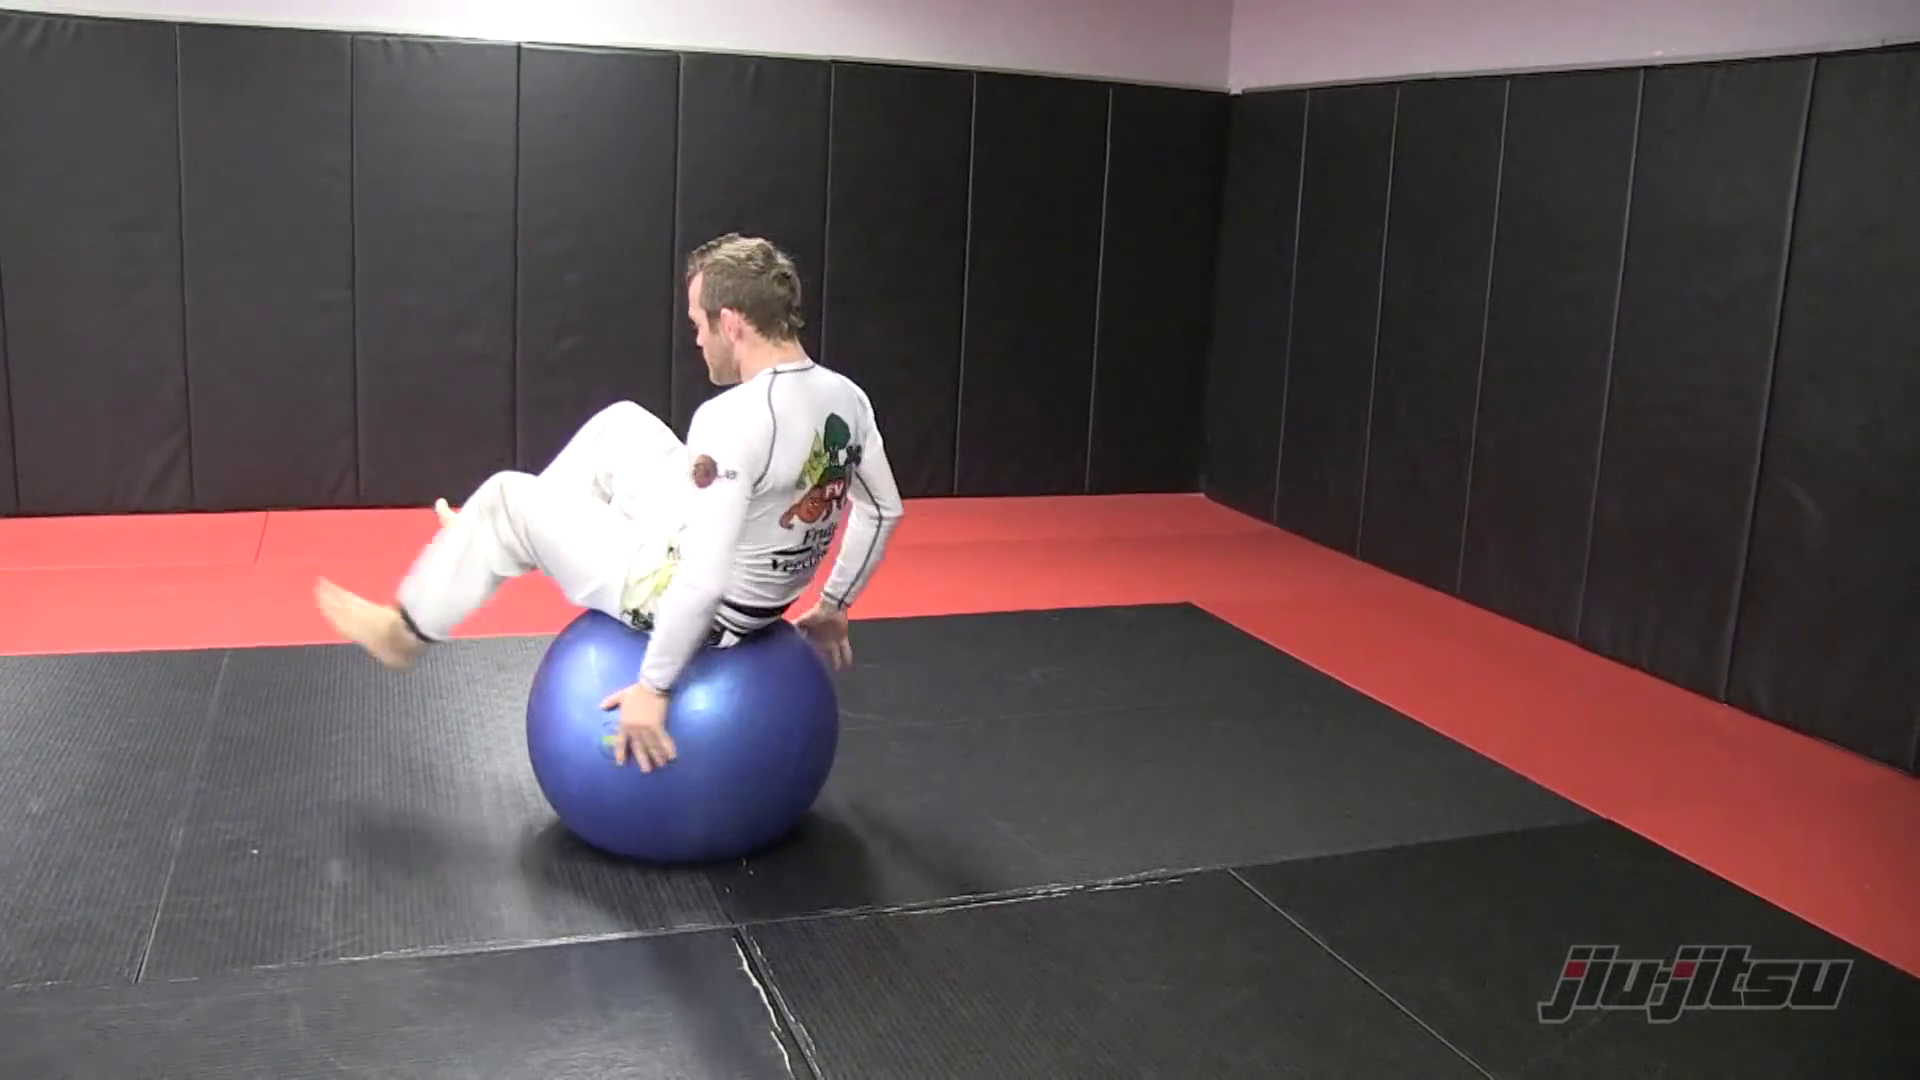yogaball: (512, 592, 855, 884)
